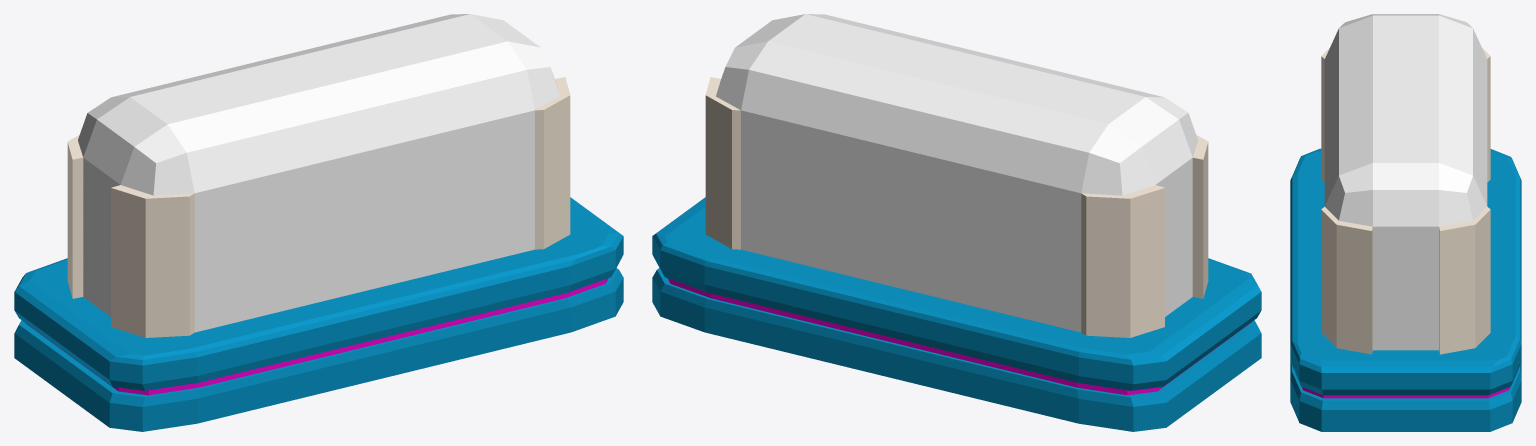
The model's file is bush.fbx.
3 renders of one model, left to right at view 1: azimuth 30°, elevation 25°; view 2: azimuth 150°, elevation 25°; view 3: azimuth 270°, elevation 25°, orthographic. The views are drawn at different scales.
Parts seen in each view (by area): view 1: haie, SocleHaie.001, rebord, lumiere.001; view 2: haie, SocleHaie.001, rebord, lumiere.001; view 3: haie, SocleHaie.001, rebord, lumiere.001.
Boxes of the visible parts, bbox=[...] form: haie: bbox=[78, 14, 559, 332]; SocleHaie.001: bbox=[14, 197, 623, 431]; rebord: bbox=[67, 77, 570, 337]; lumiere.001: bbox=[26, 278, 608, 395]; haie: bbox=[716, 14, 1197, 332]; SocleHaie.001: bbox=[652, 197, 1261, 431]; rebord: bbox=[705, 77, 1208, 337]; lumiere.001: bbox=[667, 278, 1249, 395]; haie: bbox=[1324, 14, 1487, 350]; SocleHaie.001: bbox=[1290, 148, 1521, 431]; rebord: bbox=[1321, 48, 1490, 354]; lumiere.001: bbox=[1302, 387, 1509, 398].
Bounding box in the file's own units: 227 × 110 × 100.
